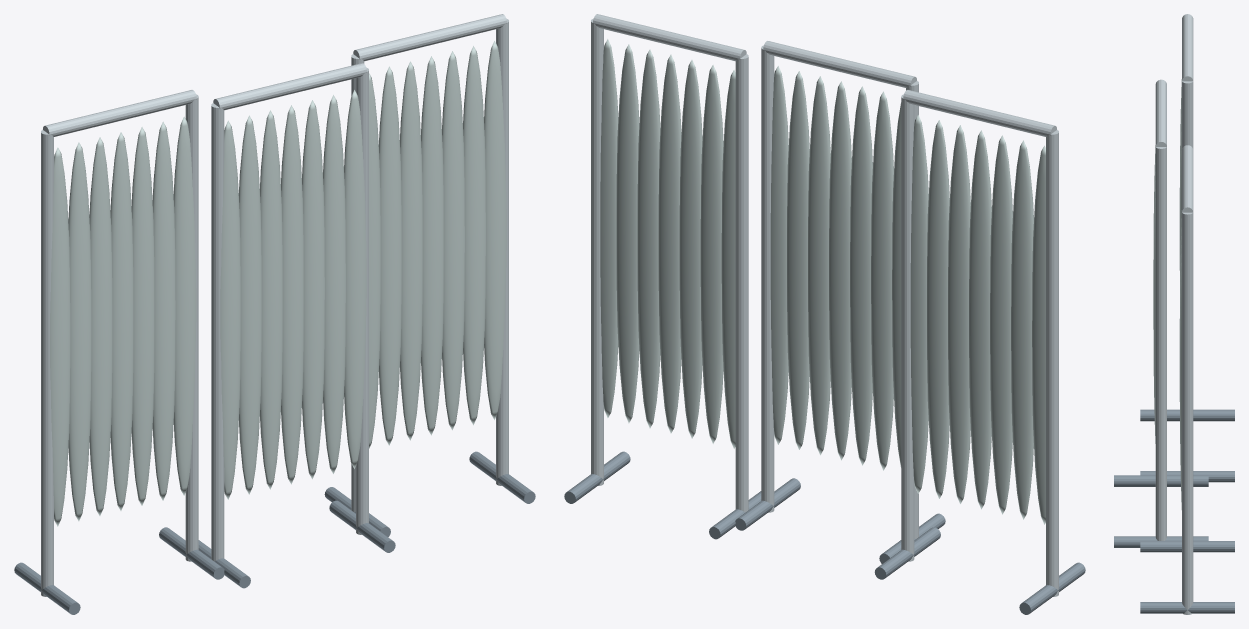
File: hospital_privacy_screen.glb
3 renders of one model, left to right at view 1: azimuth 30°, elevation 25°; view 2: azimuth 150°, elevation 25°; view 3: azimuth 270°, elevation 25°, orthographic. The views are drawn at different scales.
Visible parts, largest first — view 1: decor_9bb7b5_fabric, decor_9aadb8_metal, decor_455665_metal; view 2: decor_9bb7b5_fabric, decor_9aadb8_metal, decor_455665_metal; view 3: decor_9aadb8_metal, decor_455665_metal, decor_9bb7b5_fabric.
Boxes of the visible parts, <box> form: decor_9bb7b5_fabric: <box>50,41,506,526</box>; decor_9aadb8_metal: <box>41,14,508,596</box>; decor_455665_metal: <box>14,451,535,614</box>; decor_9bb7b5_fabric: <box>600,39,1045,524</box>; decor_9aadb8_metal: <box>591,14,1058,596</box>; decor_455665_metal: <box>564,451,1085,614</box>; decor_9aadb8_metal: <box>1155,14,1193,614</box>; decor_455665_metal: <box>1114,409,1234,613</box>; decor_9bb7b5_fabric: <box>1153,79,1181,509</box>.
Size of the model in its own units: 1.77 by 1.7 by 0.46.
